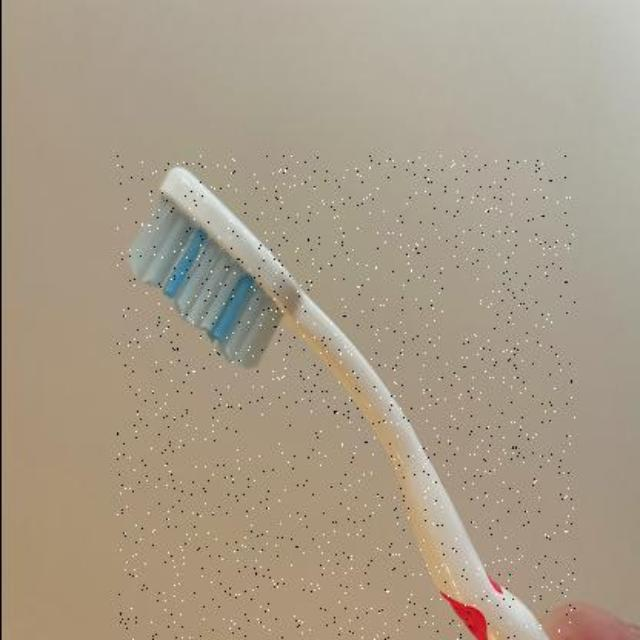toothbrush: (116, 156, 574, 640)
